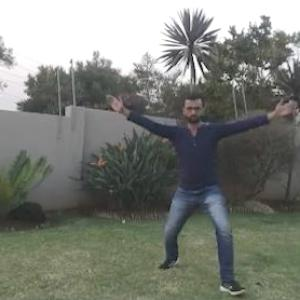takeoff: (106, 95, 292, 262)
